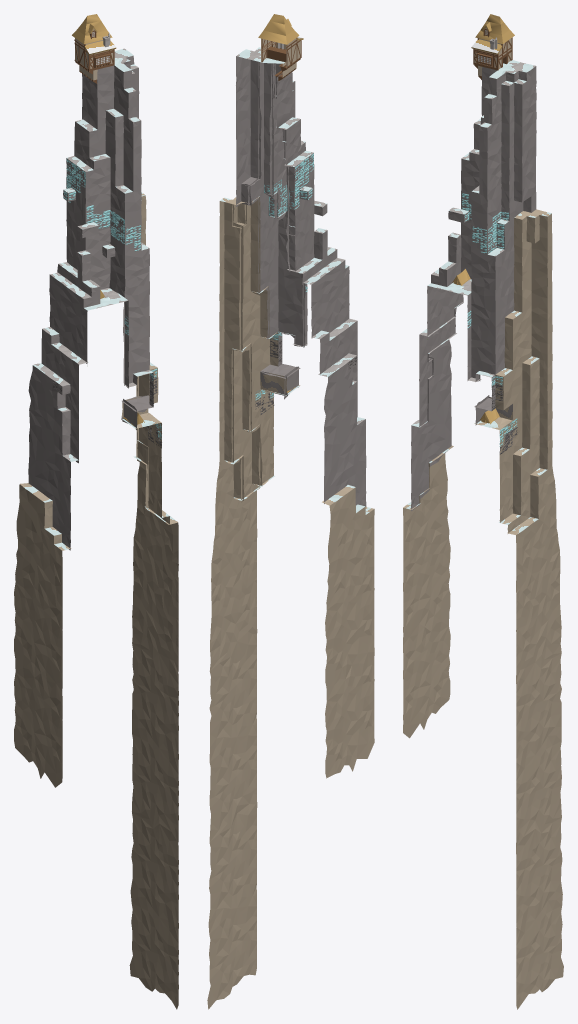
The picture shows the model from 3 angles, left to right: view 1: azimuth 30°, elevation 25°; view 2: azimuth 150°, elevation 25°; view 3: azimuth 330°, elevation 25°; orthographic projection. The views are drawn at different scales.
Visible parts, largest first — view 1: 13.001; view 2: 13.001; view 3: 13.001.
Part boxes in pixels (x1=…): 13.001: x1=14, y1=14, x2=178, y2=1009; 13.001: x1=207, y1=14, x2=374, y2=1009; 13.001: x1=403, y1=14, x2=563, y2=1009.
Size of the model in its own units: 14.1 by 114 by 10.24.
Materials: 1 (1 with a texture image).
